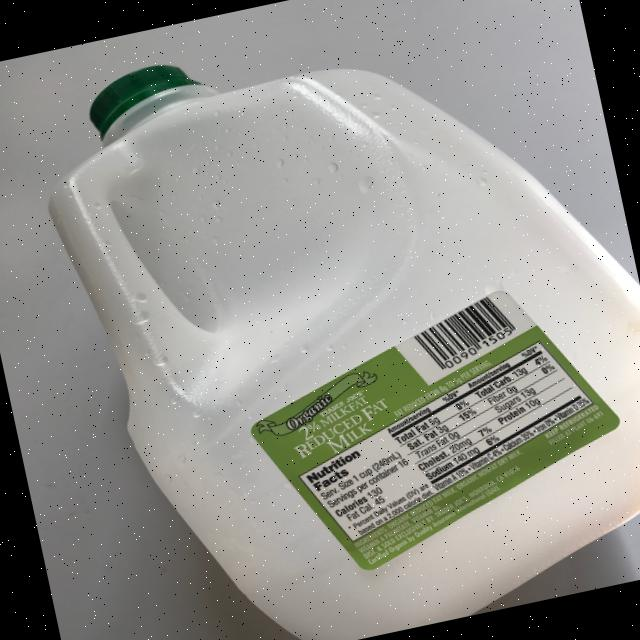plastic: (22, 0, 640, 640)
